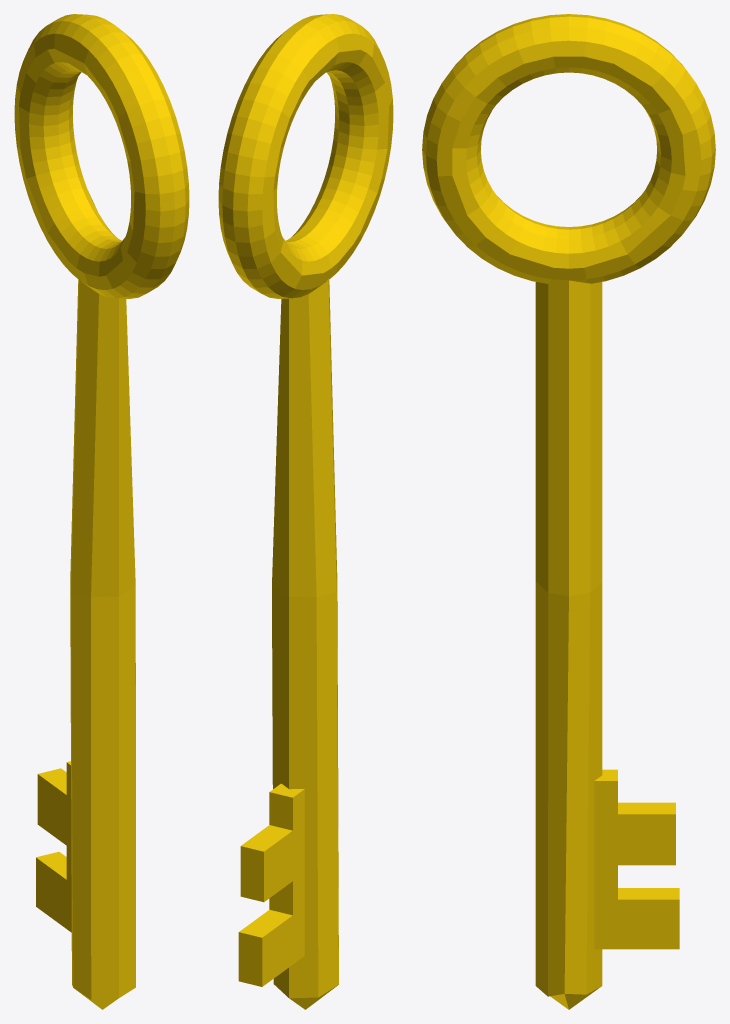
File: key3.glb
The picture shows the model from 3 angles, left to right: view 1: azimuth 30°, elevation 25°; view 2: azimuth 150°, elevation 25°; view 3: azimuth 270°, elevation 25°; orthographic projection.
Parts seen in each view (by area): view 1: Cube.001; view 2: Cube.001; view 3: Cube.001.
Part boxes in pixels (left/top/right/bottom): Cube.001: left=14, top=14, right=189, bottom=1009; Cube.001: left=218, top=14, right=393, bottom=1009; Cube.001: left=422, top=14, right=715, bottom=1009.
Size of the model in its own units: 0.7081 by 10.63 by 2.85.
